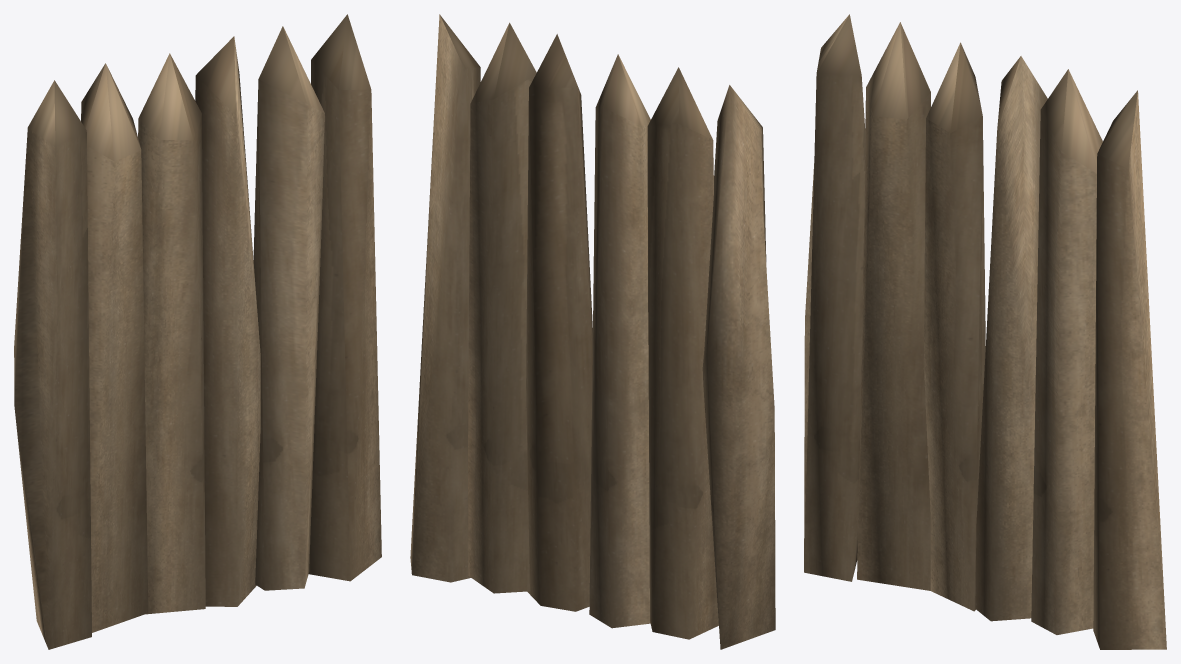
The model's file is Fence_LOD2.fbx.
The picture shows the model from 3 angles, left to right: view 1: azimuth 30°, elevation 25°; view 2: azimuth 150°, elevation 25°; view 3: azimuth 330°, elevation 25°; orthographic projection.
Visible parts, largest first — view 1: Fence_LOD2; view 2: Fence_LOD2; view 3: Fence_LOD2.
Part boxes in pixels (x1,y1,x2,y2): Fence_LOD2: [14, 14, 381, 649]; Fence_LOD2: [410, 14, 775, 649]; Fence_LOD2: [804, 14, 1166, 649].
Size of the model in its own units: 13.34 by 19.51 by 2.43.
